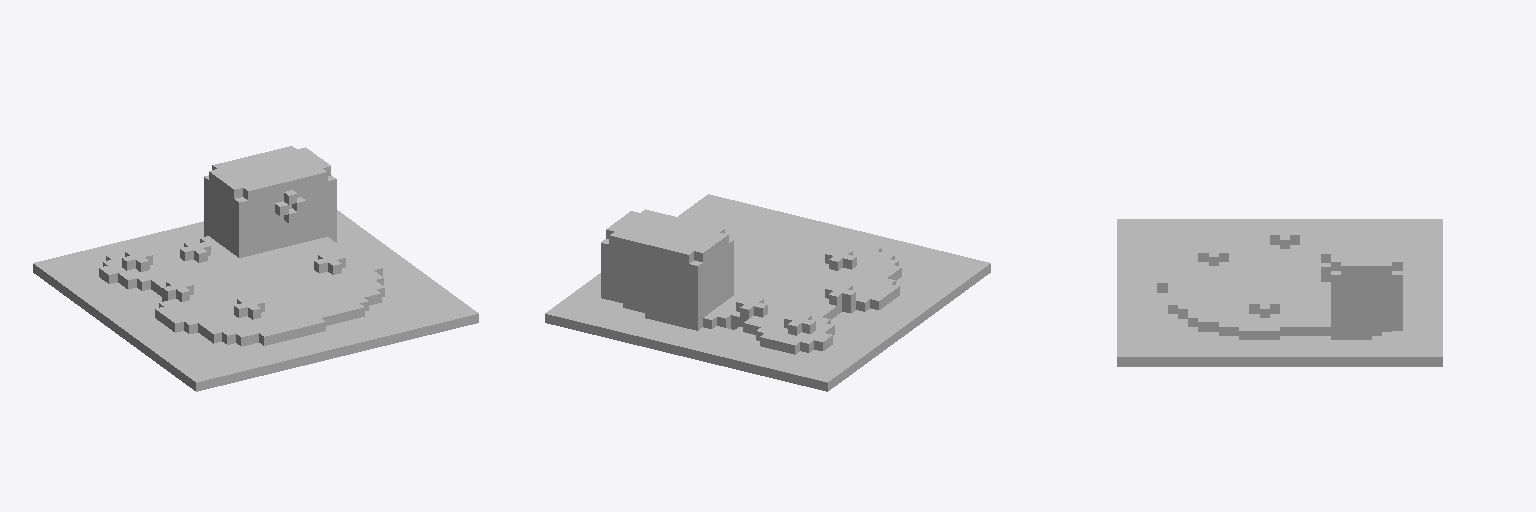
The model's file is chest.obj.
The picture shows the model from 3 angles: view 1: azimuth 30°, elevation 25°; view 2: azimuth 150°, elevation 25°; view 3: azimuth 270°, elevation 25°; orthographic projection.
Visible parts, largest first — view 1: object 1; view 2: object 1; view 3: object 1.
Boxes of the visible parts, box(x1,y1,x2,y2) form: object 1: box(33, 146, 478, 391); object 1: box(545, 194, 990, 391); object 1: box(1117, 219, 1442, 366).
Size of the model in its own units: 3.2 by 0.9 by 3.2.